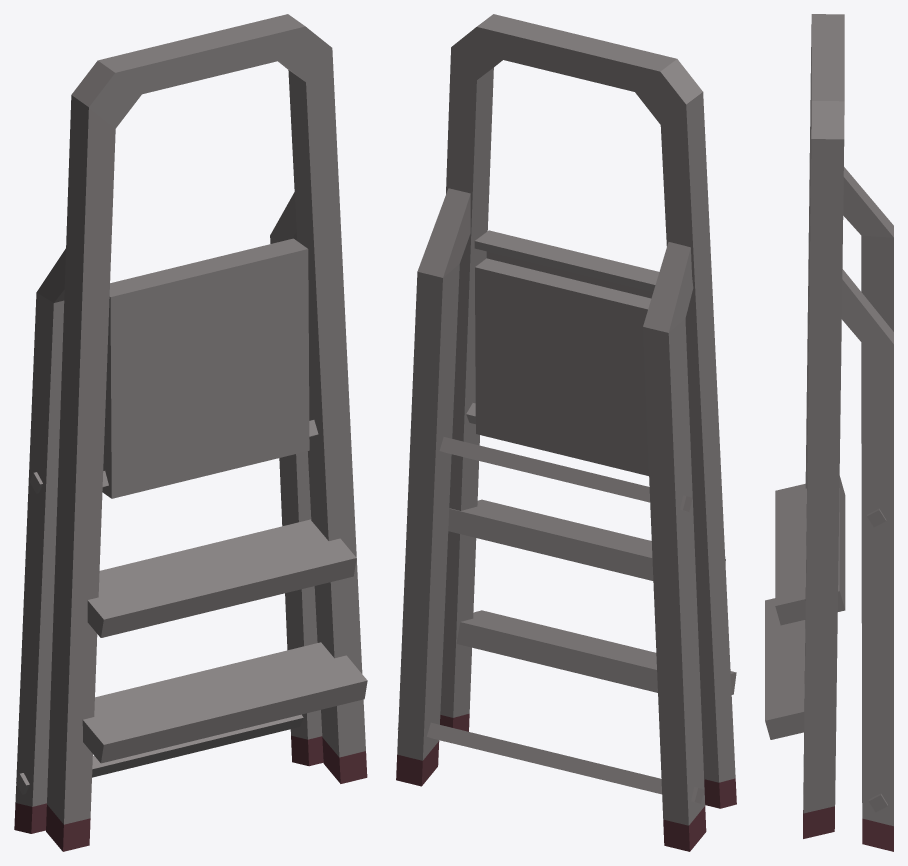
Rendered from ladder-folded.fbx.
3 views of the same model, side by side, from view 1: azimuth 30°, elevation 25°; view 2: azimuth 150°, elevation 25°; view 3: azimuth 270°, elevation 25° (orthographic). The views are drawn at different scales.
Parts seen in each view (by area): view 1: ladder-folded; view 2: ladder-folded; view 3: ladder-folded.
Boxes of the visible parts, x1,y1,x2,y2 form: ladder-folded: (14,14,367,851); ladder-folded: (396,14,736,851); ladder-folded: (765,14,893,851).
Bounding box in the file's own units: 0.5559 × 1.34 × 0.2158.
